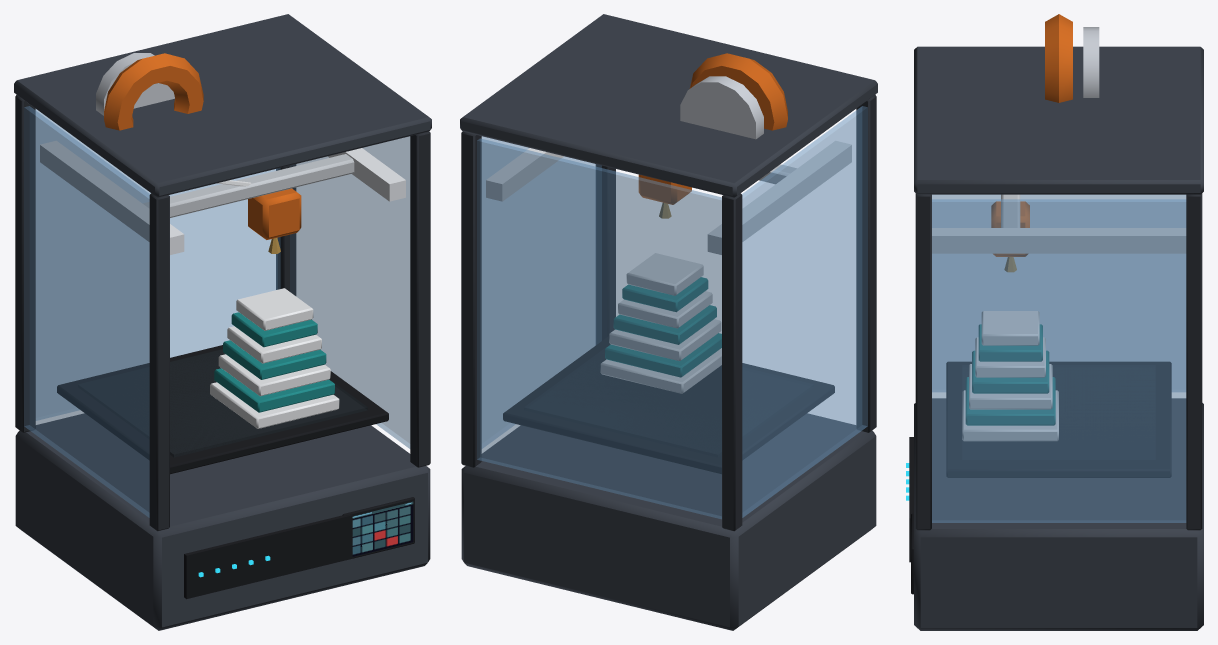
Rendered from analyzer_3d_fabricator.glb.
3 renders of one model, left to right at view 1: azimuth 30°, elevation 25°; view 2: azimuth 150°, elevation 25°; view 3: azimuth 270°, elevation 25°, orthographic.
Parts seen in each view (by area): view 1: analyzer_3d_fabricator; view 2: analyzer_3d_fabricator; view 3: analyzer_3d_fabricator.
Boxes of the visible parts, box(x1,y1,x2,y2) form: analyzer_3d_fabricator: box(14, 14, 431, 630); analyzer_3d_fabricator: box(460, 14, 877, 630); analyzer_3d_fabricator: box(906, 14, 1203, 630).
Bounding box in the file's own units: 1 × 1.76 × 0.925.
14 materials, 1 textured.
